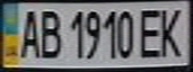0: (115, 7, 139, 60)
1: (100, 7, 121, 60), (63, 7, 84, 60)
9: (81, 8, 103, 60)
A: (15, 6, 42, 60)
B: (36, 6, 63, 60)
E: (136, 7, 166, 60)
K: (154, 3, 190, 59)
